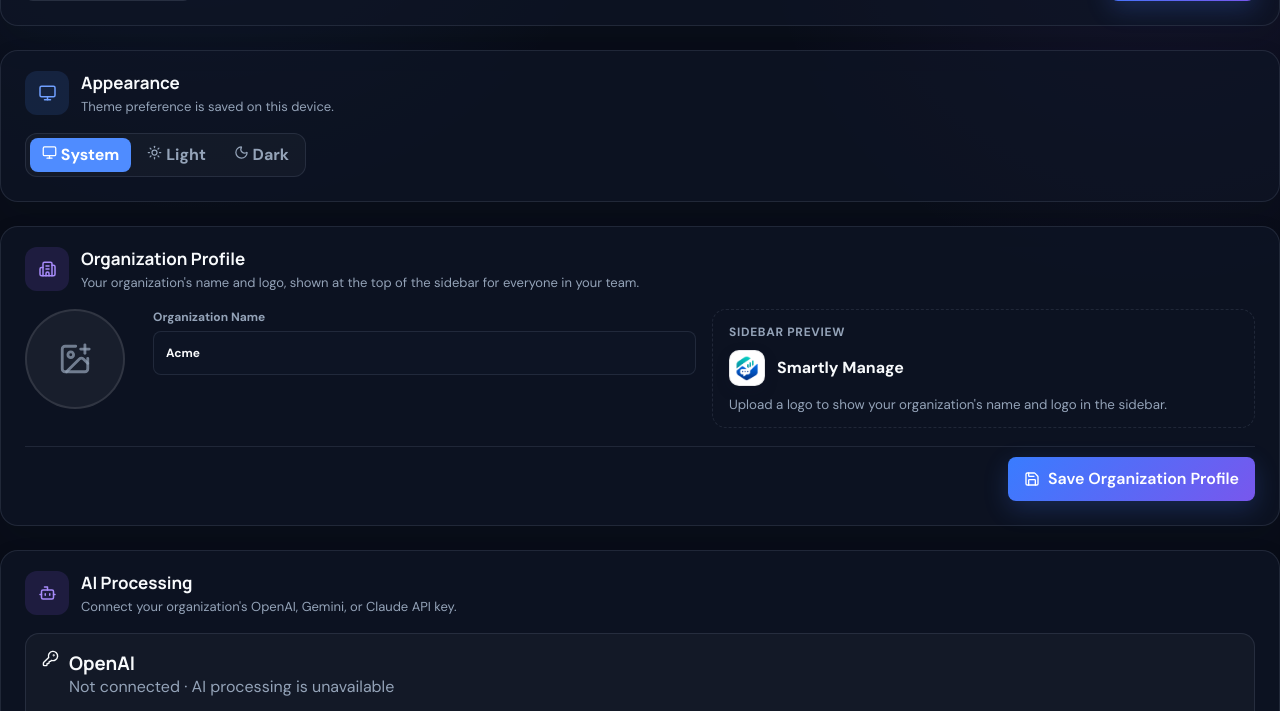
Test: organization AI settings › lets a manager edit the organization profile and AI key but not org-wide settings
(page scrolled)
Expected: the heading "Organization Profile" is shown, [81,247,245,270]
Expected: the text "Not connected · AI processing is unavailable" is shown, [69,676,394,697]
Replace the text in the field labelled "Organization Name" with "Acme Sales": (424, 353) [153,331,696,375]
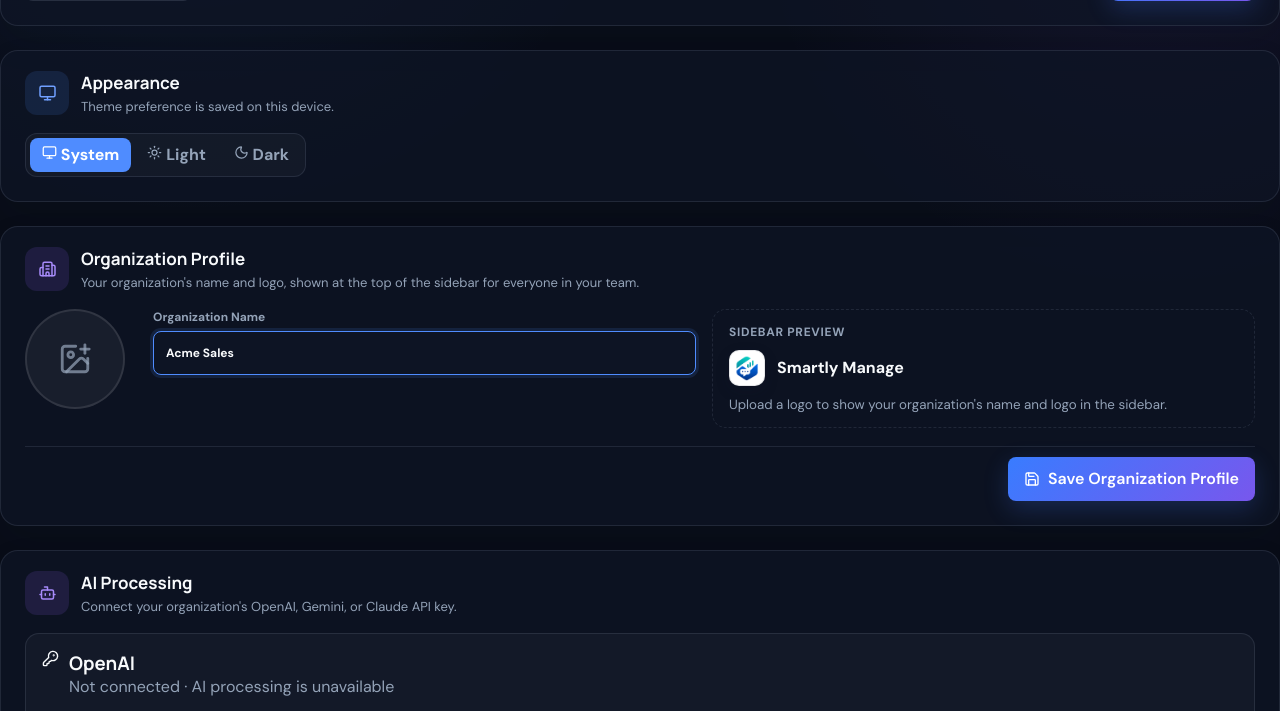
Click the button "Save Organization Profile": (1132, 479) [1008,457,1255,501]
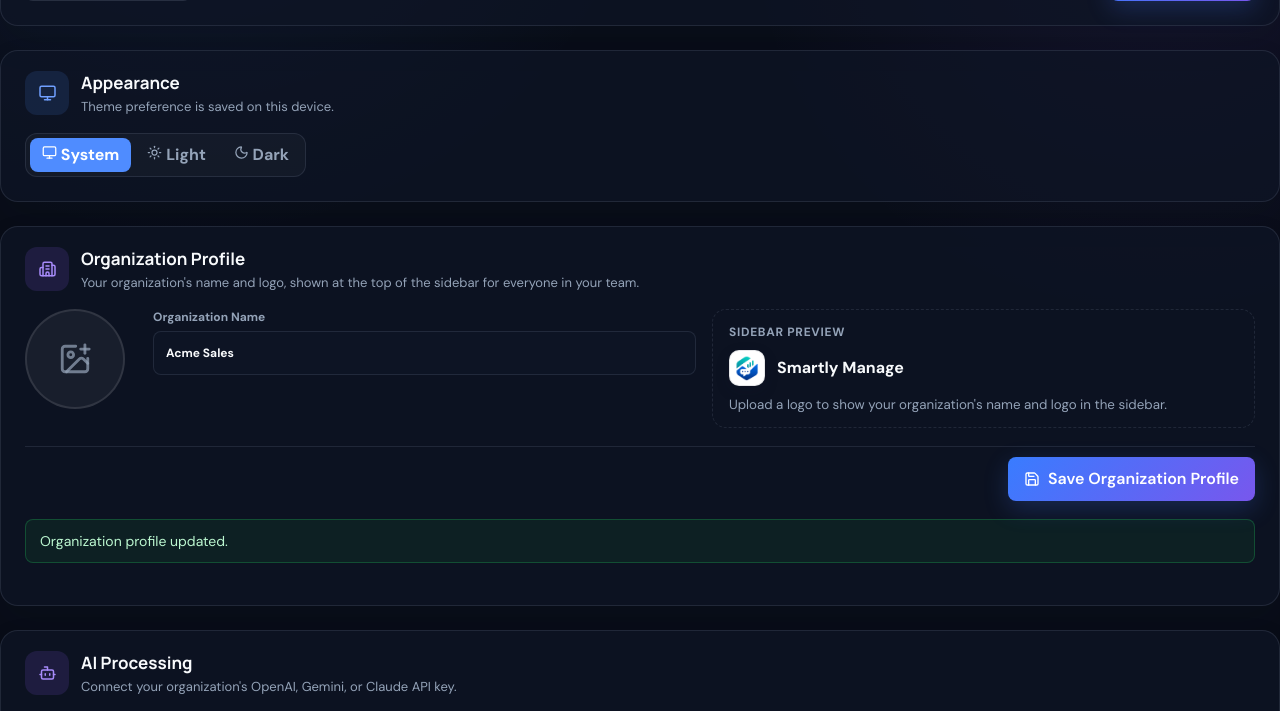
Result: the text "Organization profile updated." is shown at [25,519,1255,563]
